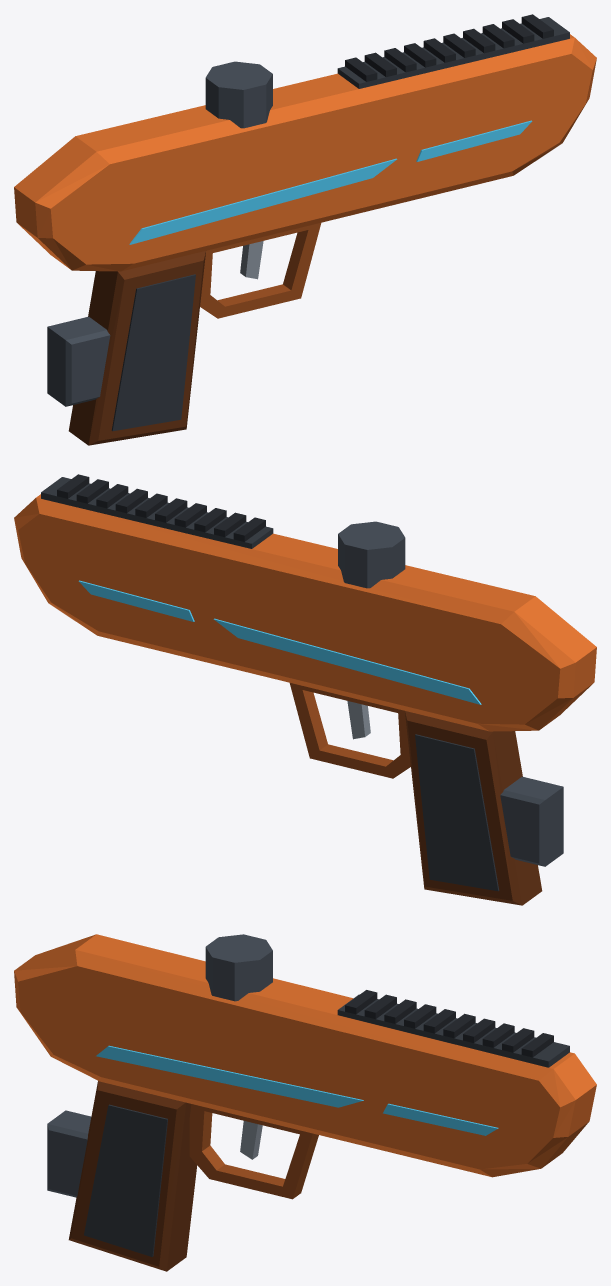
Rendered from raptor.glb.
The picture shows the model from 3 angles, top to bottom: view 1: azimuth 30°, elevation 25°; view 2: azimuth 150°, elevation 25°; view 3: azimuth 330°, elevation 25°; orthographic projection.
Visible parts, largest first — view 1: raptor_body; view 2: raptor_body; view 3: raptor_body.
Part boxes in pixels (x1,y1,x2,y2): raptor_body: (14,14,596,445); raptor_body: (14,474,596,905); raptor_body: (14,934,596,1271).
Size of the model in its own units: 0.458 by 0.258 by 0.0487.
